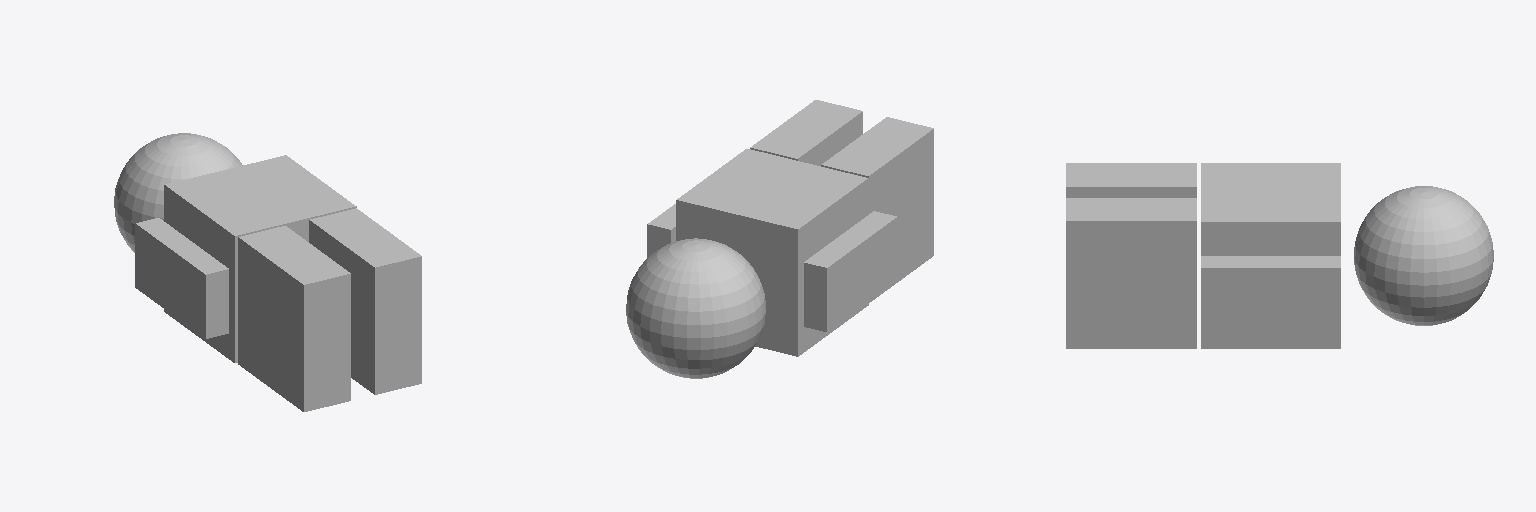
File: sporty_robot_animation_000018.obj
3 renders of one model, left to right at view 1: azimuth 30°, elevation 25°; view 2: azimuth 150°, elevation 25°; view 3: azimuth 270°, elevation 25°, orthographic.
Visible parts, largest first — view 1: Cube.002, Cube.001_Cube.005, Cube, Cube.004, Sphere.001; view 2: Cube, Sphere.001, Cube.002, Cube.004, Cube.001_Cube.005, Cube.003; view 3: Cube.001_Cube.005, Sphere.001, Cube, Cube.003, Cube.002.
Part boxes in pixels (bbox=[...]): Cube.002: bbox=[238, 226, 350, 411]; Cube.001_Cube.005: bbox=[309, 208, 421, 394]; Cube: bbox=[164, 155, 356, 362]; Cube.004: bbox=[135, 218, 228, 338]; Sphere.001: bbox=[114, 133, 242, 252]; Cube: bbox=[676, 149, 868, 356]; Sphere.001: bbox=[626, 238, 765, 378]; Cube.002: bbox=[821, 117, 933, 302]; Cube.004: bbox=[804, 211, 897, 332]; Cube.001_Cube.005: bbox=[750, 100, 862, 165]; Cube.003: bbox=[647, 204, 675, 257]; Cube.001_Cube.005: bbox=[1066, 198, 1196, 348]; Sphere.001: bbox=[1354, 186, 1493, 325]; Cube: bbox=[1201, 163, 1340, 348]; Cube.003: bbox=[1201, 256, 1340, 331]; Cube.002: bbox=[1066, 163, 1196, 197].
Size of the model in its own units: 0.76 by 0.514 by 1.57.